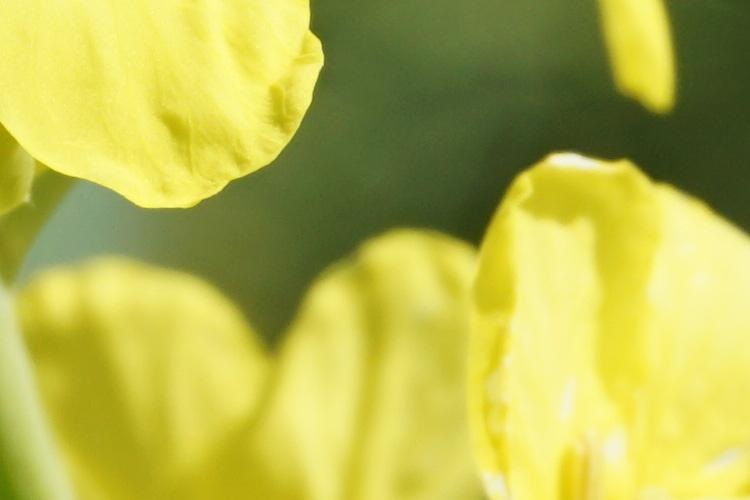yellow: (68, 222, 738, 491), (10, 1, 338, 204)
